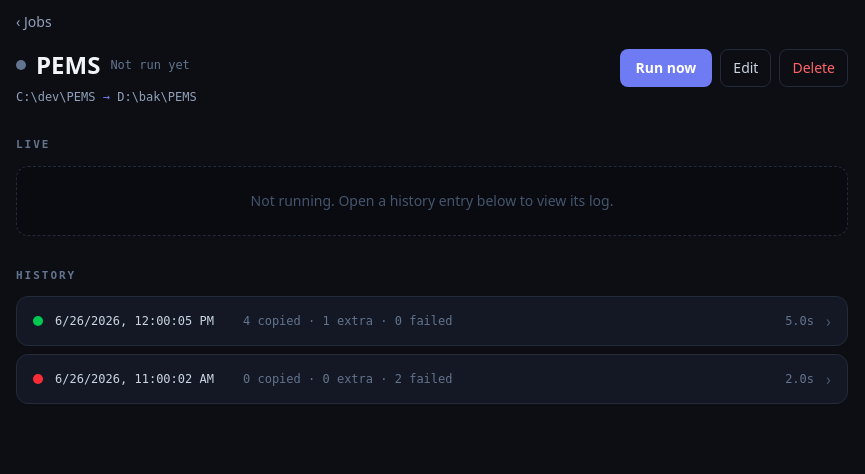
Scenario: JobDetails history › toggles a run log inline when its entry is clicked
Step 1. Click the text "4 copied · 1 extra · 0 failed" → (348, 321), box top-left (243, 314), bottom-right (452, 328)
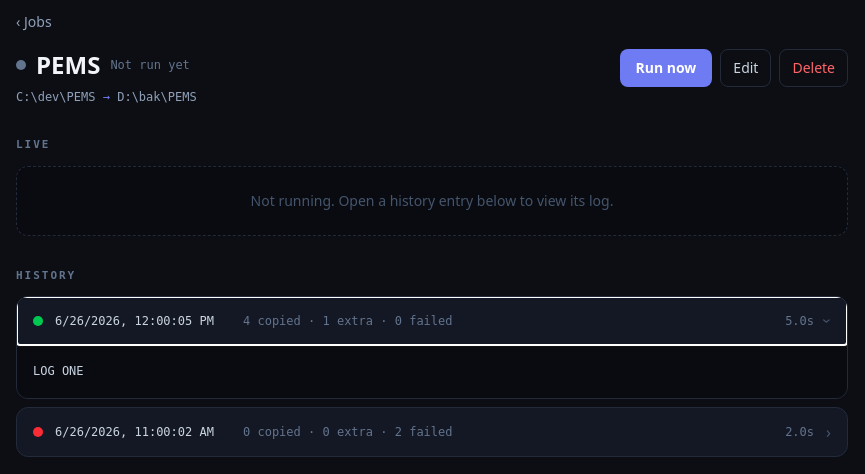
Result: the text "LOG ONE" is shown at top-left (17, 345), bottom-right (847, 398)
Step 2. Click the text "4 copied · 1 extra · 0 failed" → (348, 321), box top-left (243, 314), bottom-right (452, 328)
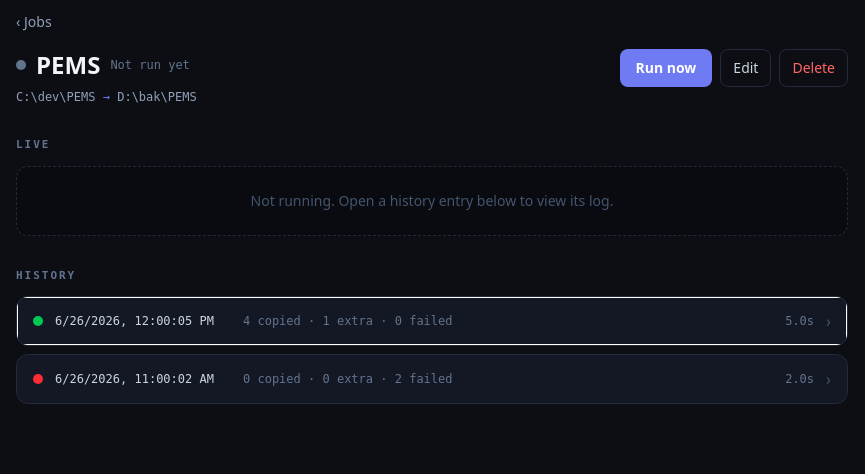
Result: the text "LOG ONE" is gone
